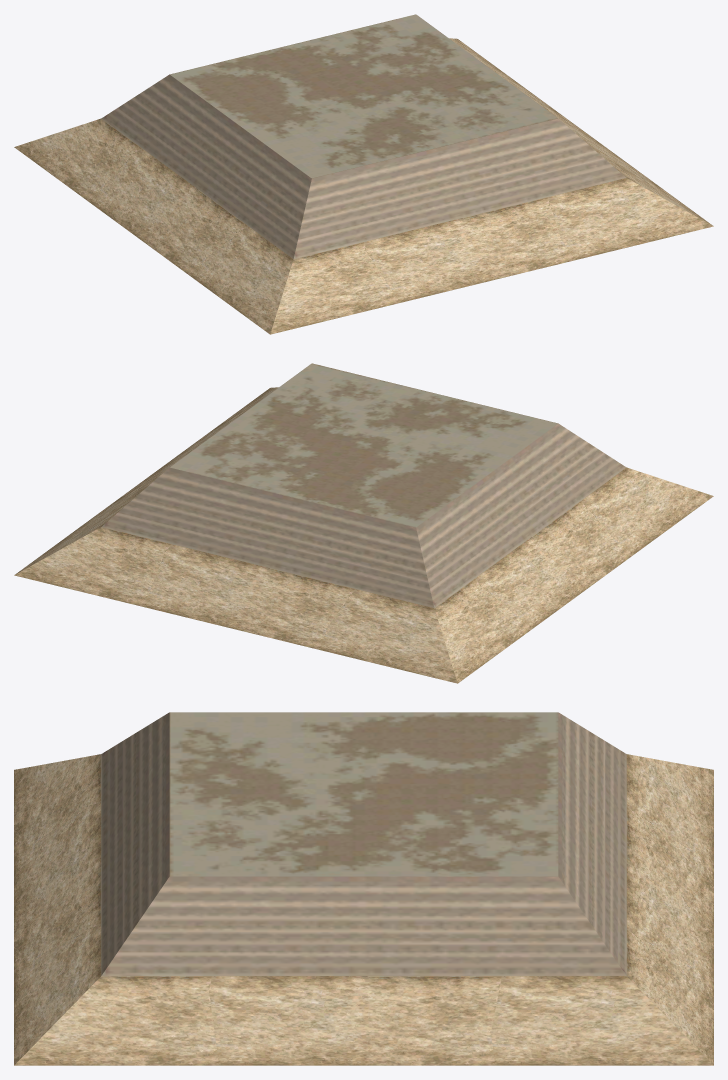
File: ply_tato_garden_sml_s01_l2.fbx
3 renders of one model, top to bottom at view 1: azimuth 30°, elevation 25°; view 2: azimuth 150°, elevation 25°; view 3: azimuth 270°, elevation 25°, orthographic. The views are drawn at different scales.
Parts seen in each view (by area): view 1: mesh_node; view 2: mesh_node; view 3: mesh_node.
Part boxes in pixels (x1=…): mesh_node: x1=14, y1=14, x2=713, y2=334; mesh_node: x1=14, y1=363, x2=713, y2=683; mesh_node: x1=14, y1=712, x2=713, y2=1065.
Bounding box in the file's own units: 18 × 3.5 × 18.
